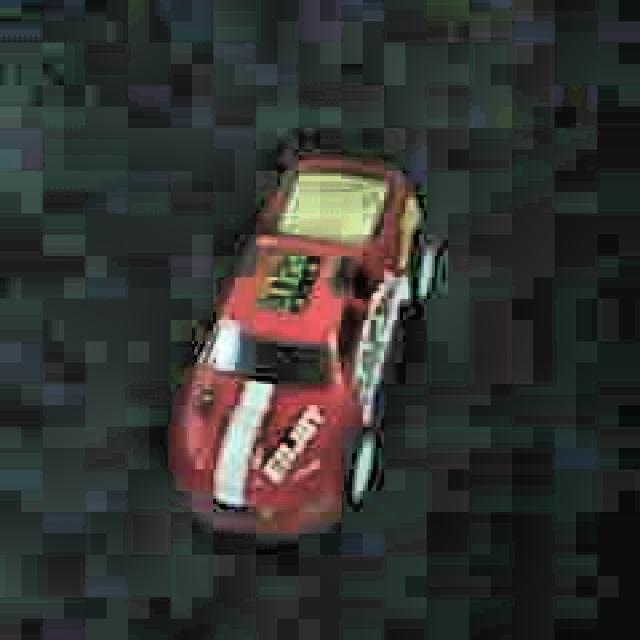car: (159, 150, 457, 545)
